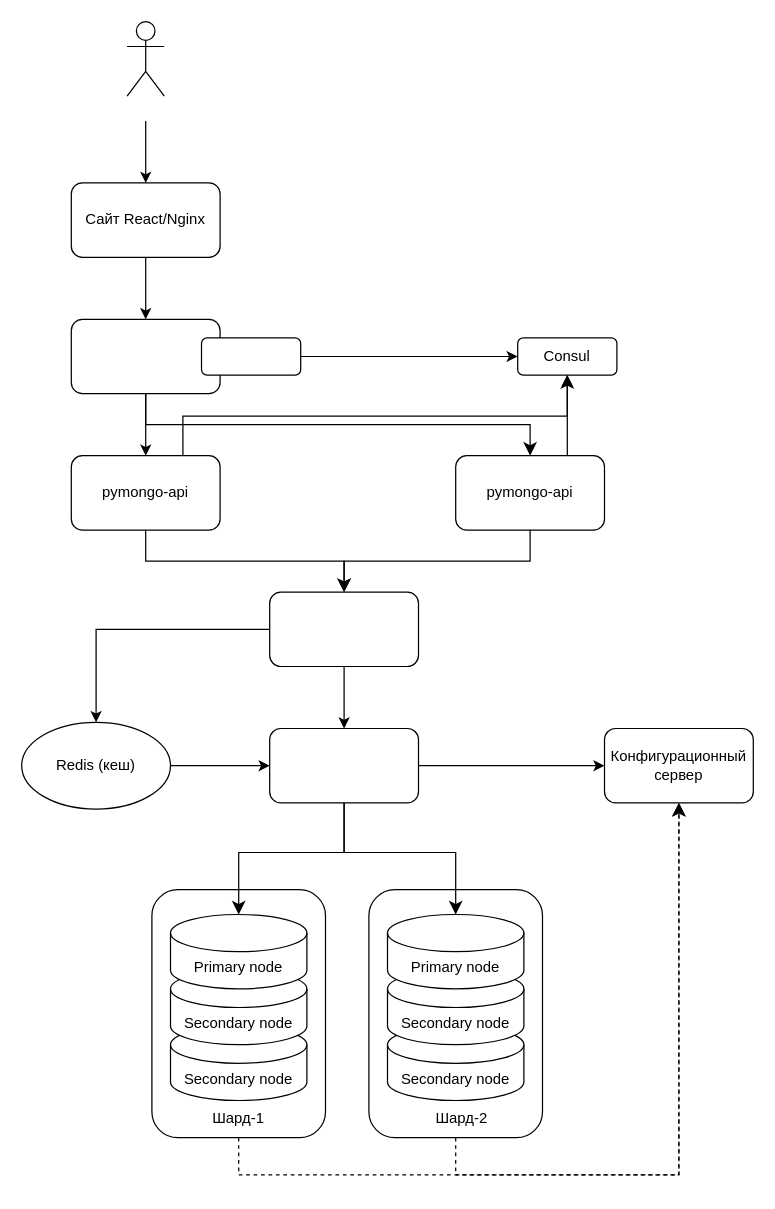
The diagram is 775 pixels wide and 1209 high, and some of its shapes have lost their labels. Here are the shapes that lost their labels. From the top down, the centre of each, then its label:
At (x=145, y=58): "Пользователь".
At (x=145, y=356): "API Gateway".
At (x=250, y=356): "consul_kv".
At (x=343, y=628): "Драйвер".
At (x=343, y=765): "Роутер".
